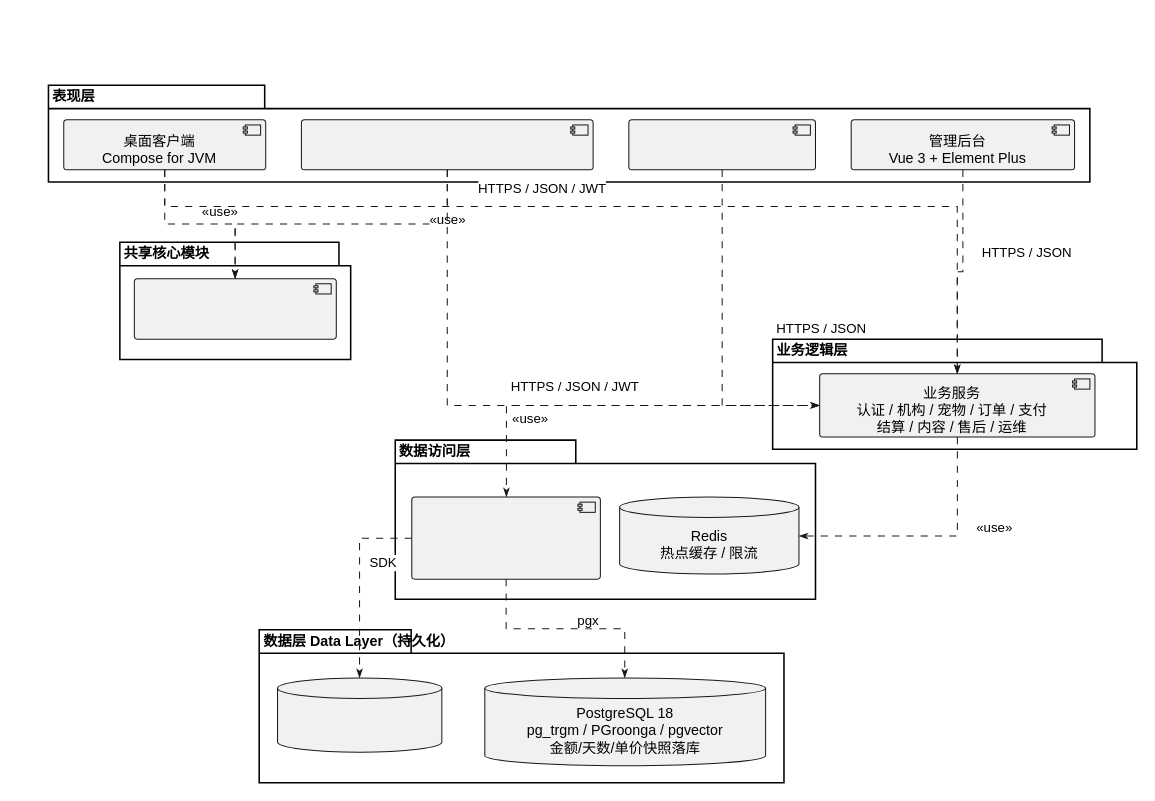
The diagram is 1155 pixels wide and 801 high, and some of its shapes have lost their labels. Each missing label, with the centre of its shape:
Android 客户端 Kotlin Multiplatform + Compose: point (446, 144)
MinIO 对象存储 图片 / 附件: point (359, 714)
仓储层 Repository pgx 连接池 · MinIO SDK: point (505, 537)
微信小程序 uni-app: point (721, 144)
数据模型 · Ktor 网络层 会话缓存 · 金额与校验工具: point (234, 308)
